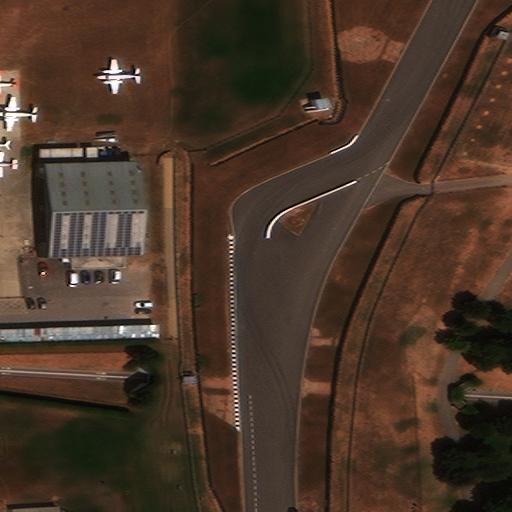Small Civil Transport: (96, 59, 141, 94), (0, 97, 38, 132), (0, 155, 18, 175), (0, 75, 16, 91)
